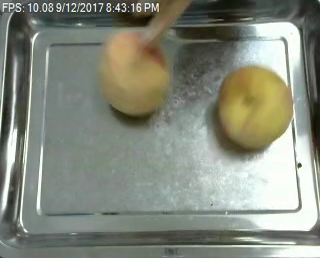Peach: (215, 64, 293, 150), (99, 30, 172, 117)
